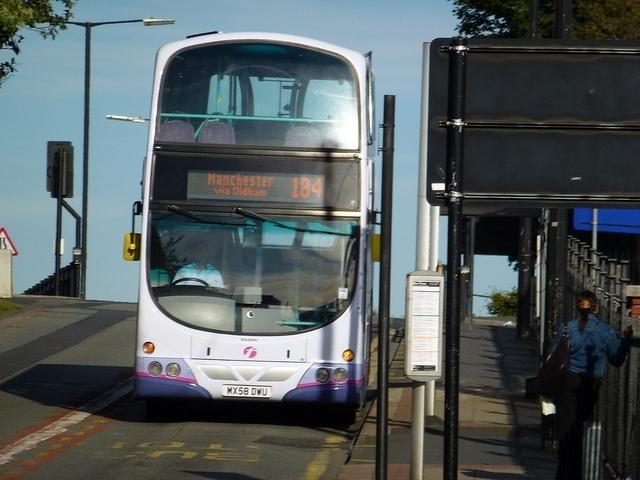bus: (125, 38, 372, 418)
